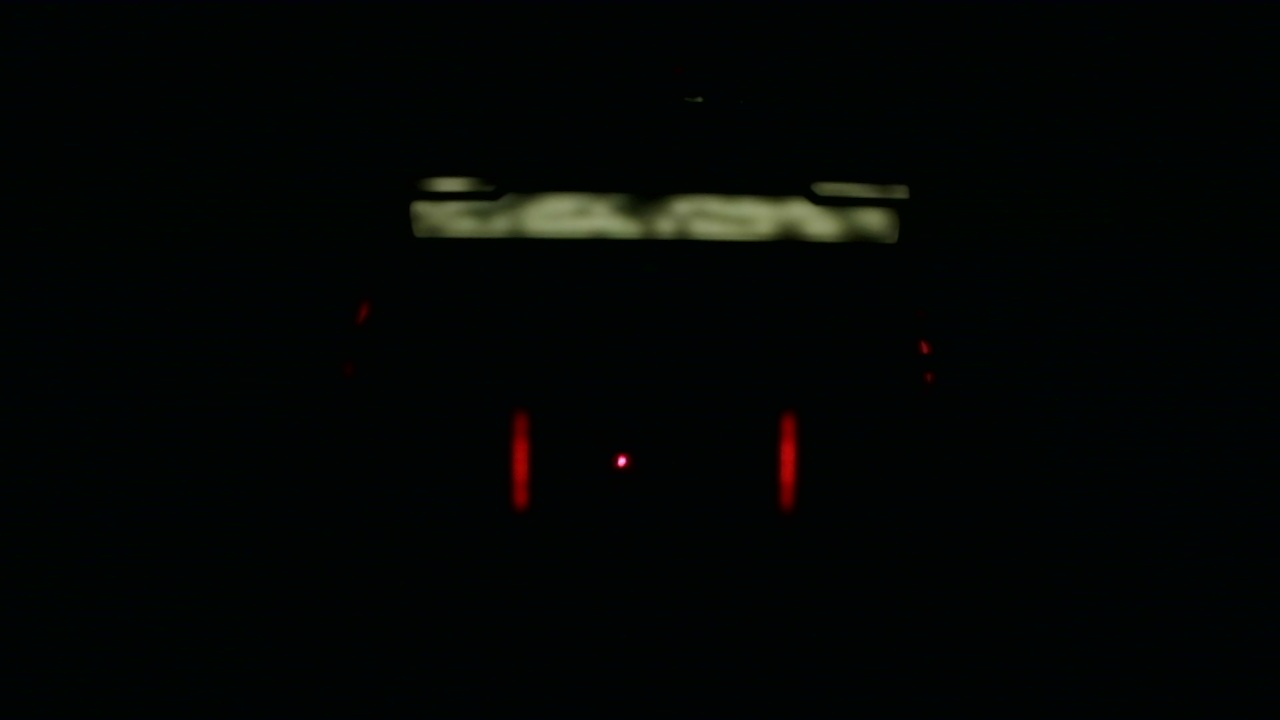lamp: (776, 412, 798, 513), (510, 409, 531, 512)
pair1: (512, 411, 798, 514)
